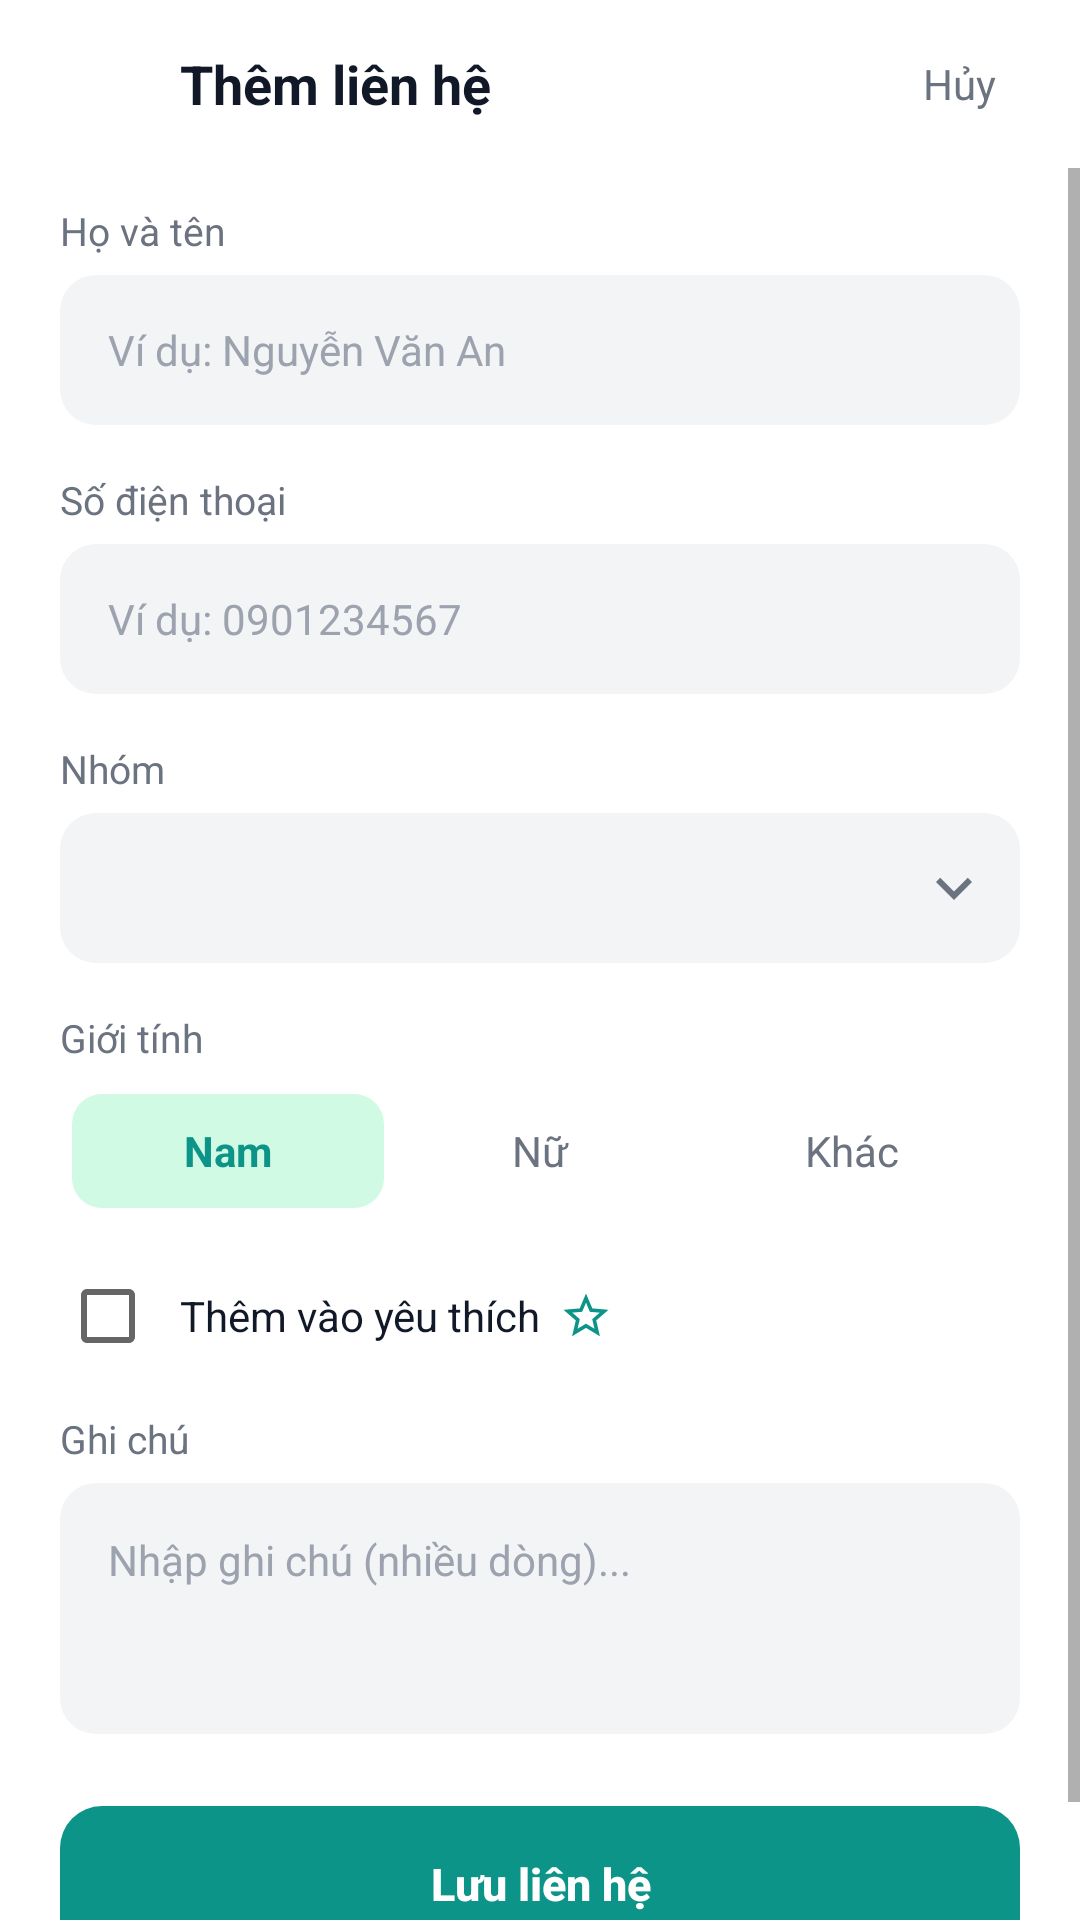

Icon bounding boxes for this 1080*1920 phone screenshot, format [x1, y1, x2, y2]:
star: [563, 1294, 609, 1336]
